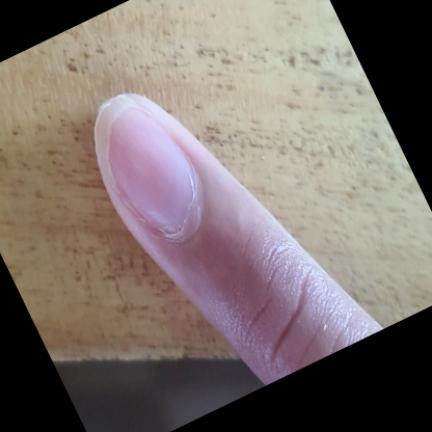Nail: (94, 94, 202, 239)
